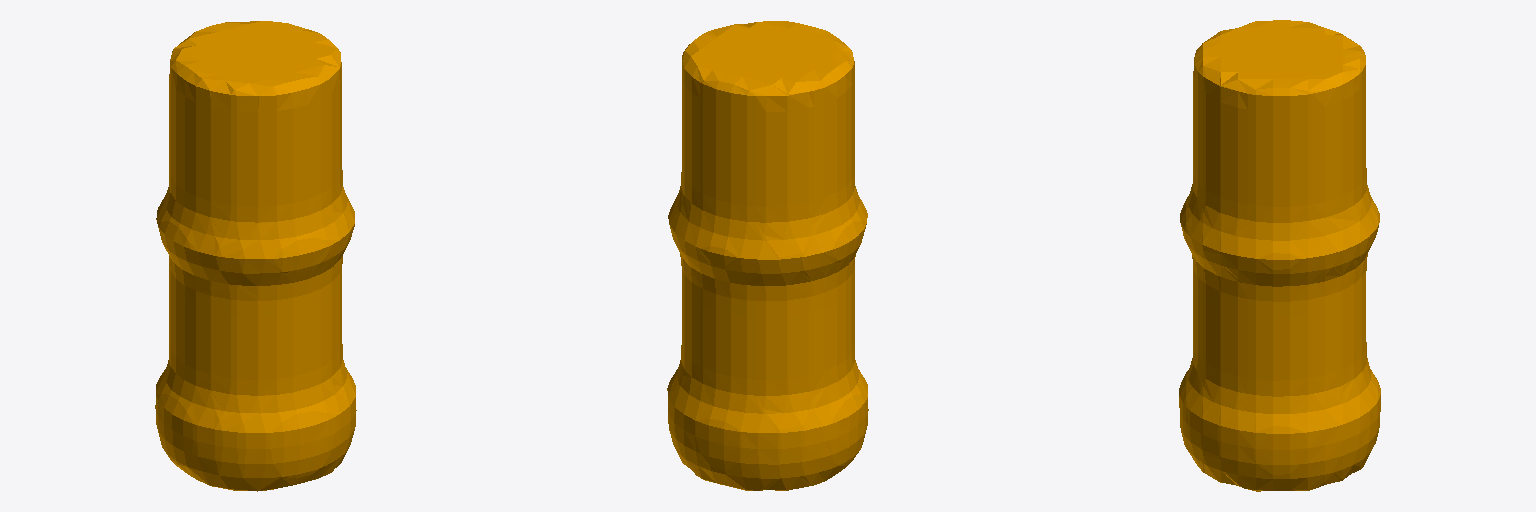
The robot description file, URDF, robot "cylinder_../../meshes/cylinders/cylinder_85.stl":
<?xml version="1.0" encoding="utf-8"?>  <robot name="cylinder_../../meshes/cylinders/cylinder_85.stl">   <link name="cylinder_../../meshes/cylinders/cylinder_85.stl">     <visual>       <geometry>         <mesh filename="../meshes/cylinders/cylinder_85.stl" scale="1 1 1"/>       </geometry>     </visual>     <collision>       <geometry>         <mesh filename="../meshes/cylinders/cylinder_85.stl" scale="1 1 1"/>       </geometry>     </collision>     <inertial>        <origin         xyz="0 0 0"         rpy="0 0 0" />       <mass value="0.26787741130035736"/>       <origin rpy="0 0 0" xyz="0 0 0"/>       <inertia ixx="0.00041364262331659526" ixy="-2.0613689187379605e-08" ixz="2.0445011475788747e-09" iyy="0.0004136433215314" iyz="-8.129813547000162e-10" izz="9.051488917104584e-05"/>     </inertial>   </link>  </robot>

--- Render facts (derived) ---
Views: 3 orthographic renders of the robot side by side, from view 1: azimuth 30°, elevation 25°; view 2: azimuth 150°, elevation 25°; view 3: azimuth 270°, elevation 25°.
Model cylinder_../../meshes/cylinders/cylinder_85.stl with 1 links and 0 joints (none), rooted at cylinder_../../meshes/cylinders/cylinder_85.stl, posed all joints at 0.
Visible links, largest first — view 1: cylinder_../../meshes/cylinders/cylinder_85.stl; view 2: cylinder_../../meshes/cylinders/cylinder_85.stl; view 3: cylinder_../../meshes/cylinders/cylinder_85.stl.
Boxes of the visible links, left/top/right/bottom form: cylinder_../../meshes/cylinders/cylinder_85.stl: left=155, top=21, right=356, bottom=491; cylinder_../../meshes/cylinders/cylinder_85.stl: left=667, top=21, right=868, bottom=490; cylinder_../../meshes/cylinders/cylinder_85.stl: left=1179, top=20, right=1380, bottom=491.
Size in the robot's own frame: 0.0579 by 0.0579 by 0.1282 metres.
1 mesh visuals loaded from 1 distinct referenced files (1 binary STL).